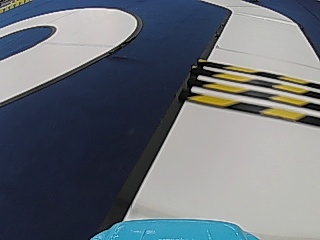bump: (211, 62, 306, 119)
